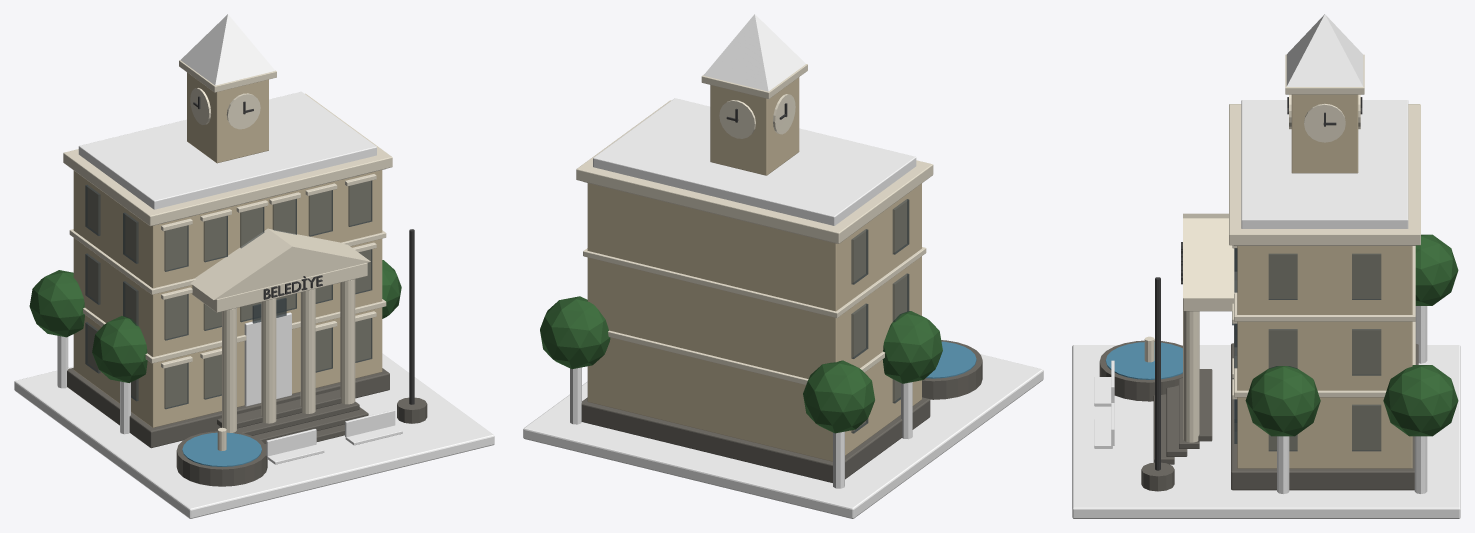
The model's file is belediye.glb.
3 views of the same model, side by side, from view 1: azimuth 30°, elevation 25°; view 2: azimuth 150°, elevation 25°; view 3: azimuth 270°, elevation 25° (orthographic). The views are drawn at different scales.
Parts seen in each view (by area): view 1: Akrep; view 2: Akrep; view 3: Akrep.
Boxes of the visible parts, bbox=[...] form: Akrep: bbox=[14, 14, 494, 518]; Akrep: bbox=[523, 14, 1043, 518]; Akrep: bbox=[1072, 14, 1460, 518].
Bounding box in the file's own units: 1 × 1.2 × 1.
